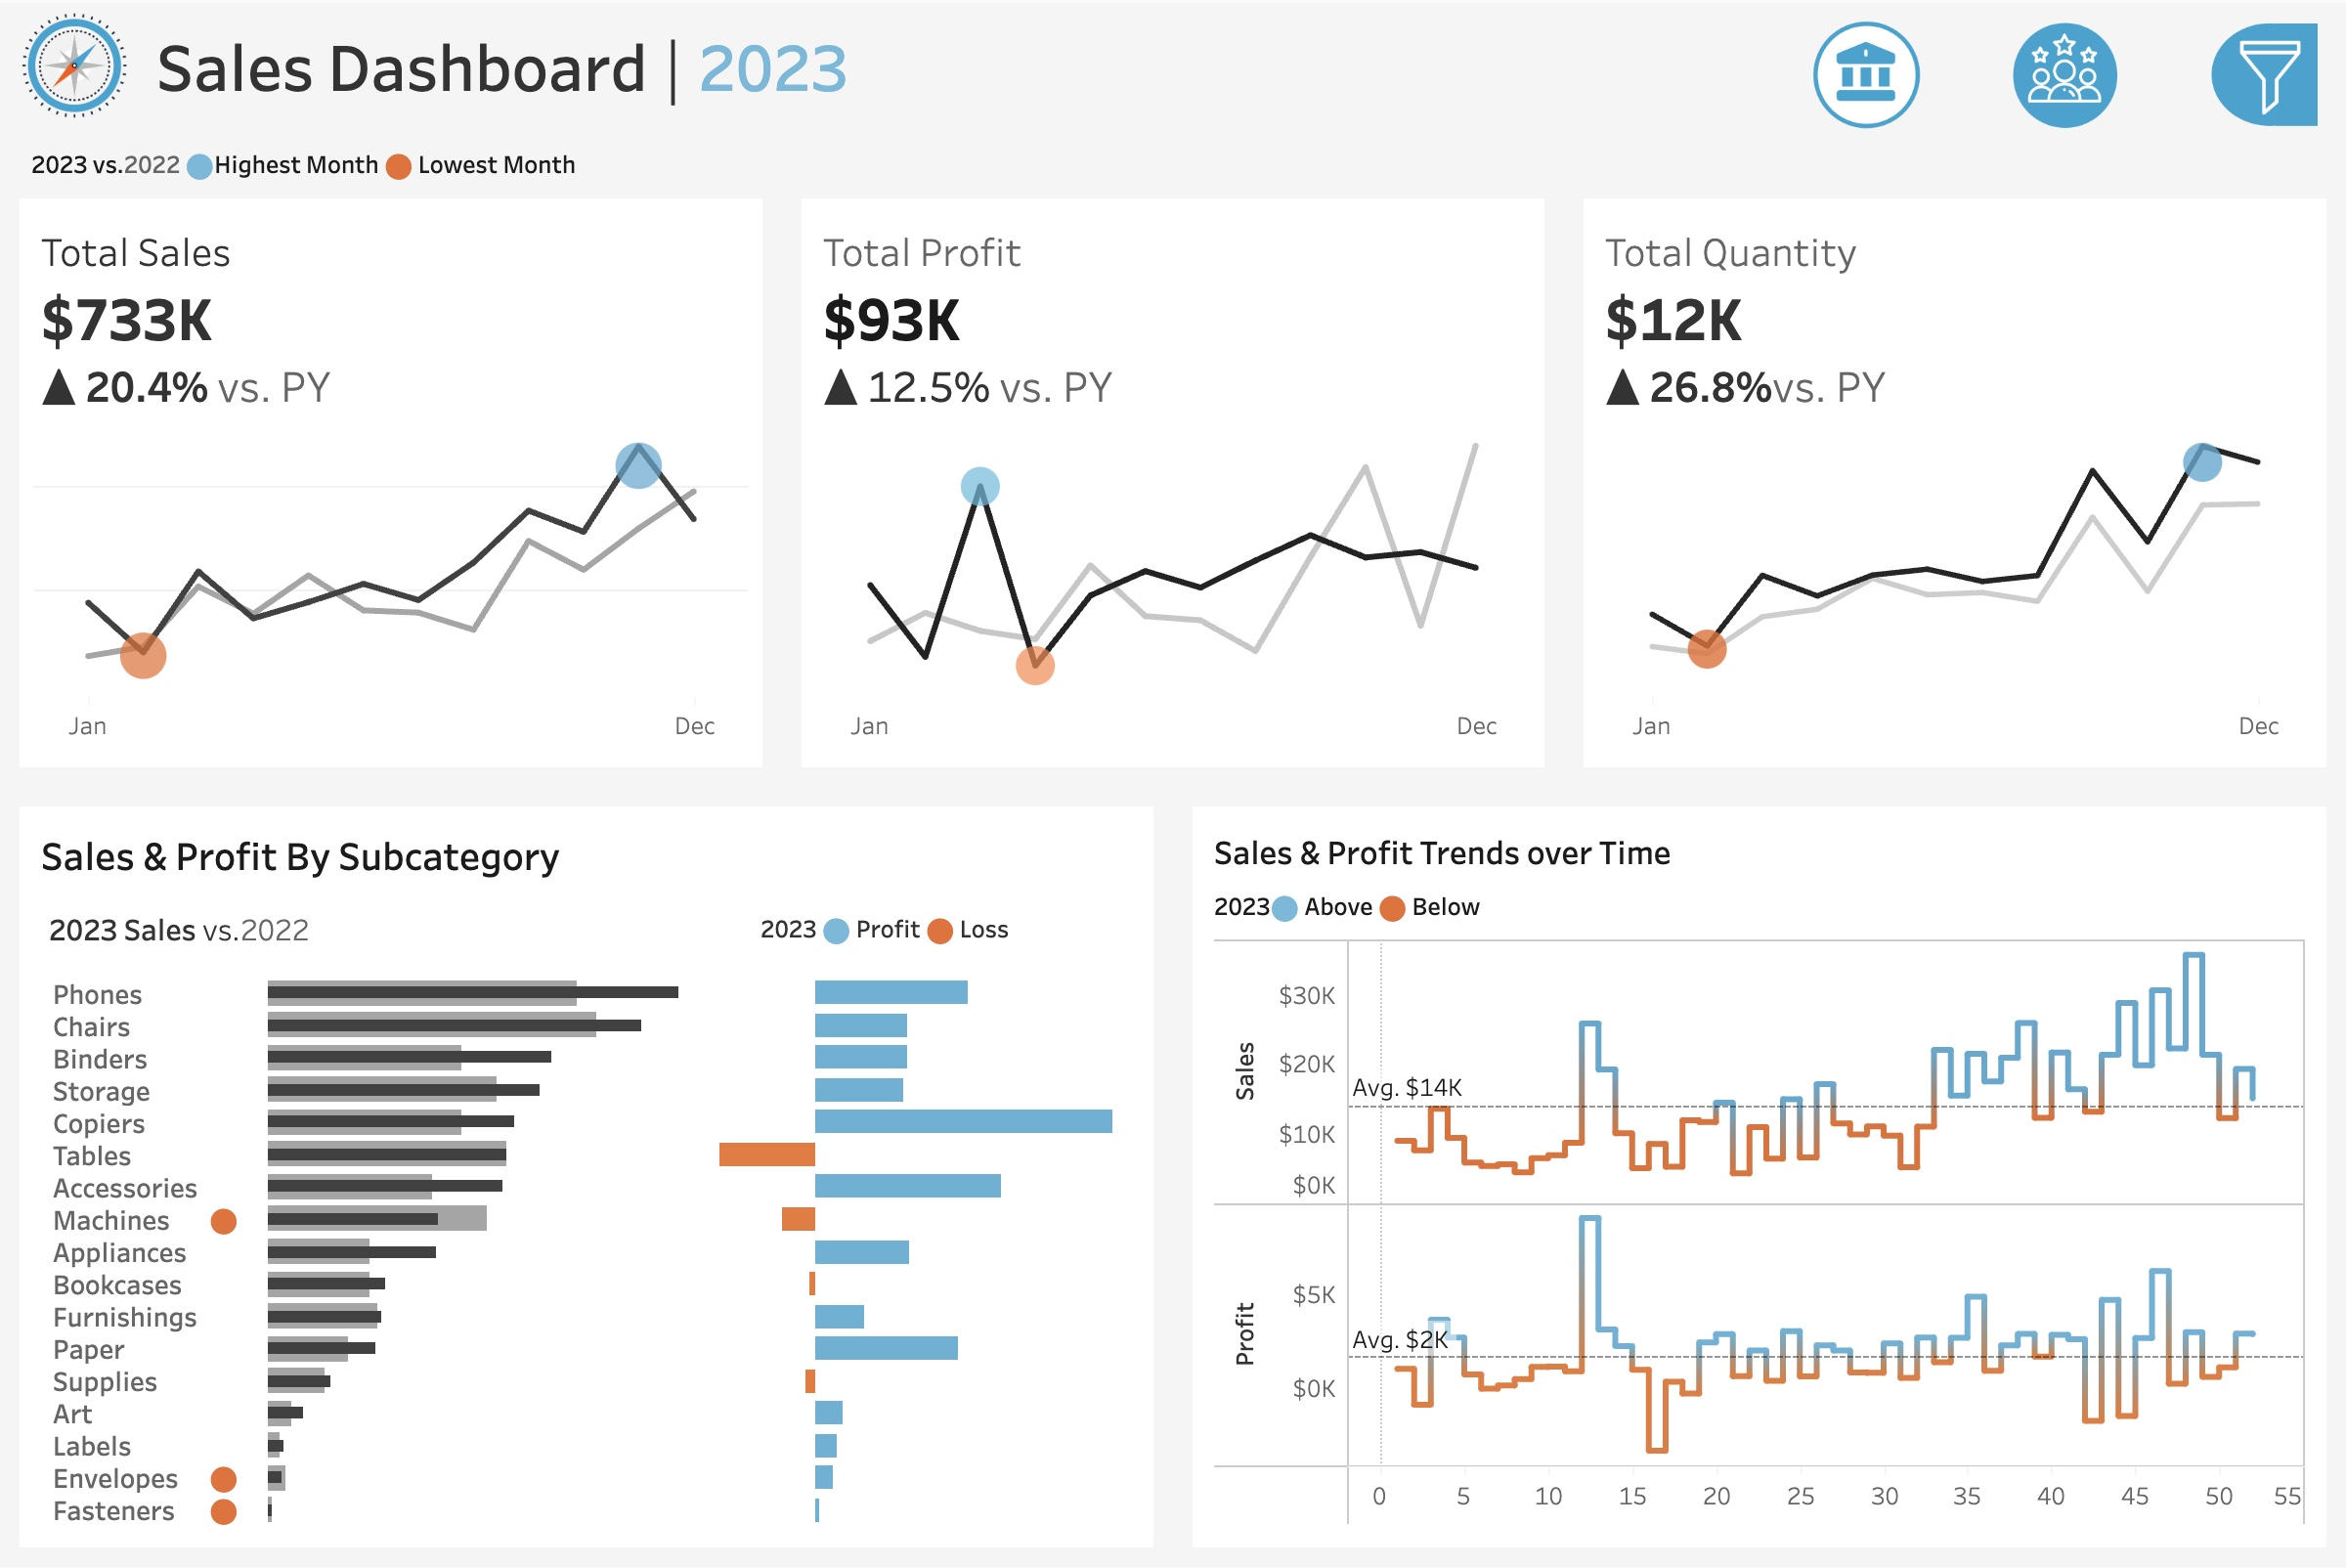

Layout of this report page (visuals, bound fields, positions):
{"tool":"tableau","page":{"name":"SalesDashboard","canvas":[1200,800],"ordinal":1},"visuals":[{"type":"image","param":"/Users/vij/Documents/Data Set/Sales Dashboard/Sales Dashboard Materials/Dashboar","box":[0,0,76,64]},{"type":"text","box":[76,0,820,64]},{"type":"dashboard-object","box":[904,5,102,64]},{"type":"dashboard-object","box":[1006,5,101,64]},{"type":"blank","box":[990,16,183,84]},{"type":"worksheet","title":"Legend KPI","mark":"Automatic","box":[0,64,1200,36]},{"type":"worksheet","title":"KPI Sales","mark":"Automatic","rows":["Calculation_1233915957717061636"],"cols":["Order Date"],"box":[0,100,400,301]},{"type":"worksheet","title":"KPI Profit","mark":"Automatic","rows":["Calculation_1233915958064623630"],"cols":["Order Date"],"box":[400,100,400,301]},{"type":"worksheet","title":"KPI Quantity","mark":"Automatic","rows":["Calculation_1233915958159908886"],"cols":["Order Date"],"box":[800,100,400,301]},{"type":"text","box":[990,100,183,34]},{"type":"parameter","param":"[Parameters].[Parameter 1]","box":[990,134,183,49]},{"type":"blank","box":[990,183,183,32]},{"type":"text","box":[990,215,183,25]},{"type":"filter","title":"KPI Sales","param":"[federated.1c6cffc0eiux3l1dpooxd1kmu6mo].[none:Category:nk]","box":[990,240,183,52]},{"type":"filter","title":"KPI Sales","param":"[federated.1c6cffc0eiux3l1dpooxd1kmu6mo].[none:Sub-Category:nk]","box":[990,292,183,52]},{"type":"blank","box":[990,344,183,32]},{"type":"text","box":[990,376,183,25]},{"type":"filter","title":"KPI Sales","param":"[federated.1c6cffc0eiux3l1dpooxd1kmu6mo].[none:Region:nk]","box":[990,401,183,52]},{"type":"text","box":[17,418,566,34]},{"type":"text","box":[617,418,566,30]},{"type":"text","box":[617,448,566,25]},{"type":"worksheet","title":"Legend Subcategory","mark":"Automatic","box":[17,452,368,41]},{"type":"text","box":[385,452,198,41]},{"type":"filter","title":"KPI Sales","param":"[federated.1c6cffc0eiux3l1dpooxd1kmu6mo].[none:State:nk]","box":[990,453,183,50]},{"type":"worksheet","title":"Weekly Trends","mark":"Automatic","rows":["Calculation_1233915957711007744","Calculation_1233915958056943626"],"cols":["Order Date"],"box":[617,473,566,310]},{"type":"worksheet","title":"Subcategory Comparison","mark":"Bar","rows":["Sub-Category","Calculation_1233915958188019738"],"cols":["CY Sales (copy)_1233915957711495169","Calculation_1233915957711007744","Calculation_1233915958056943626"],"box":[17,493,566,290]},{"type":"filter","title":"KPI Sales","param":"[federated.1c6cffc0eiux3l1dpooxd1kmu6mo].[none:City:nk]","box":[990,503,183,52]},{"type":"legend","title":"KPI Profit","param":"[federated.1c6cffc0eiux3l1dpooxd1kmu6mo].[:Measure Names]","box":[990,555,183,66]},{"type":"legend","title":"KPI Profit","param":"[federated.1c6cffc0eiux3l1dpooxd1kmu6mo].[usr:Calculation_1233915958064623630:qk","box":[990,621,183,65]}]}

Visuals, with their boxes in screenshot pixels (x1, y1, x2, y2), scaled from the page's 1200x800 canvas onto the 2346x1568 screenshot:
image: l=0, t=0, r=149, b=125
text: l=149, t=0, r=1752, b=125
dashboard-object: l=1767, t=10, r=1967, b=135
dashboard-object: l=1967, t=10, r=2164, b=135
blank: l=1935, t=31, r=2293, b=196
"Legend KPI" worksheet: l=0, t=125, r=2345, b=196
"KPI Sales" worksheet: l=0, t=196, r=782, b=786
"KPI Profit" worksheet: l=782, t=196, r=1564, b=786
"KPI Quantity" worksheet: l=1564, t=196, r=2345, b=786
text: l=1935, t=196, r=2293, b=263
parameter: l=1935, t=263, r=2293, b=359
blank: l=1935, t=359, r=2293, b=421
text: l=1935, t=421, r=2293, b=470
"KPI Sales" filter: l=1935, t=470, r=2293, b=572
"KPI Sales" filter: l=1935, t=572, r=2293, b=675
blank: l=1935, t=675, r=2293, b=737
text: l=1935, t=737, r=2293, b=786
"KPI Sales" filter: l=1935, t=786, r=2293, b=888
text: l=33, t=819, r=1140, b=886
text: l=1206, t=819, r=2313, b=878
text: l=1206, t=878, r=2313, b=927
"Legend Subcategory" worksheet: l=33, t=886, r=753, b=966
text: l=753, t=886, r=1140, b=966
"KPI Sales" filter: l=1935, t=888, r=2293, b=986
"Weekly Trends" worksheet: l=1206, t=927, r=2313, b=1535
"Subcategory Comparison" worksheet (Bar marks): l=33, t=966, r=1140, b=1535
"KPI Sales" filter: l=1935, t=986, r=2293, b=1088
"KPI Profit" legend: l=1935, t=1088, r=2293, b=1217
"KPI Profit" legend: l=1935, t=1217, r=2293, b=1344
